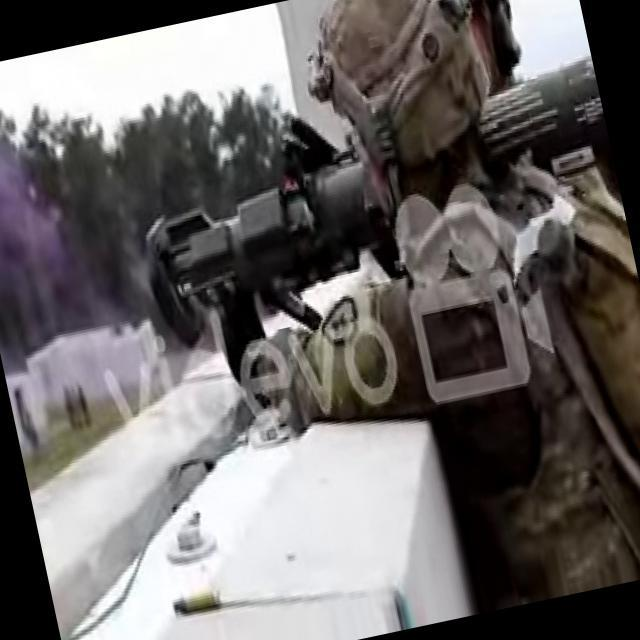rocket: (128, 48, 632, 349)
